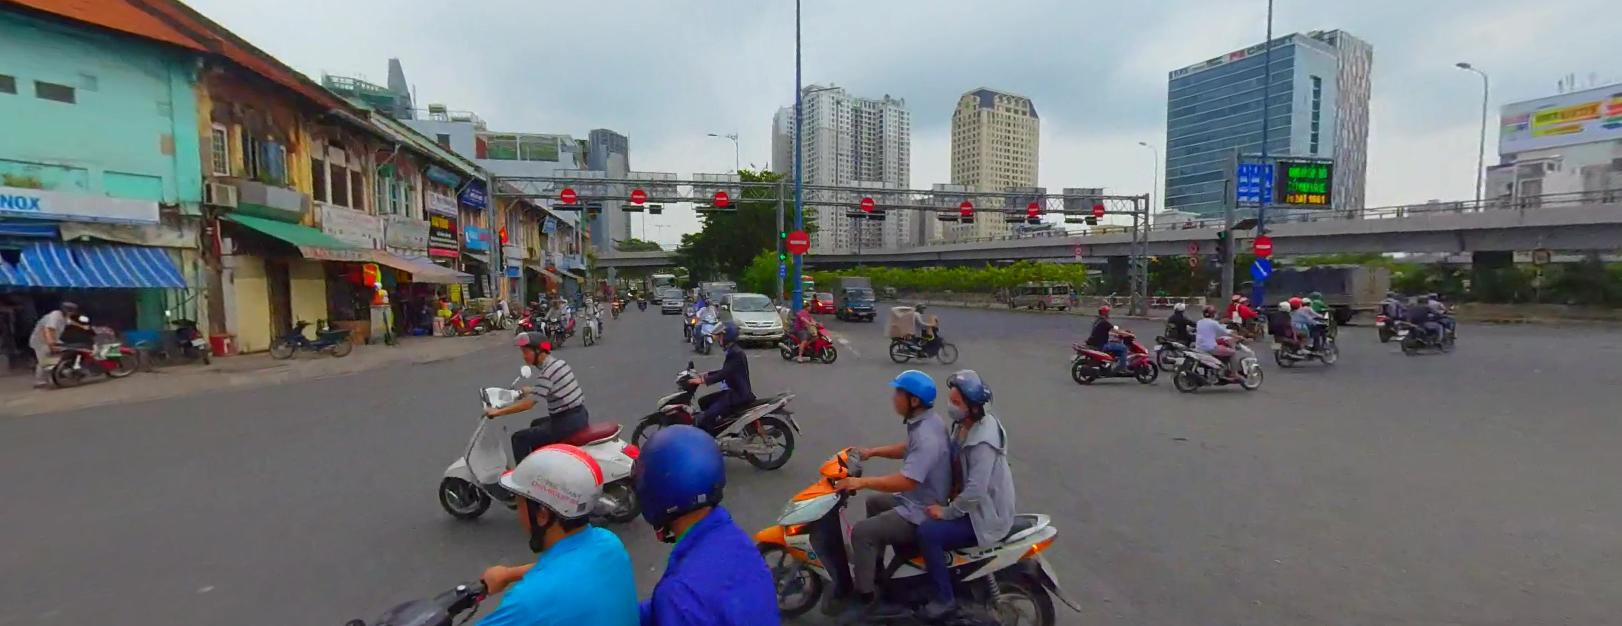Cam con lai: (1532, 247, 1550, 264), (1187, 240, 1198, 251), (1074, 244, 1082, 252)
Cam nguoc chieu: (786, 227, 810, 254), (1252, 235, 1271, 254), (859, 193, 876, 210), (558, 187, 576, 203), (630, 186, 647, 202), (1026, 200, 1041, 216), (712, 190, 728, 204), (959, 199, 973, 213), (1092, 201, 1105, 216)
Cam re: (1187, 254, 1199, 266)
Hieu lenh: (1249, 256, 1272, 279)
